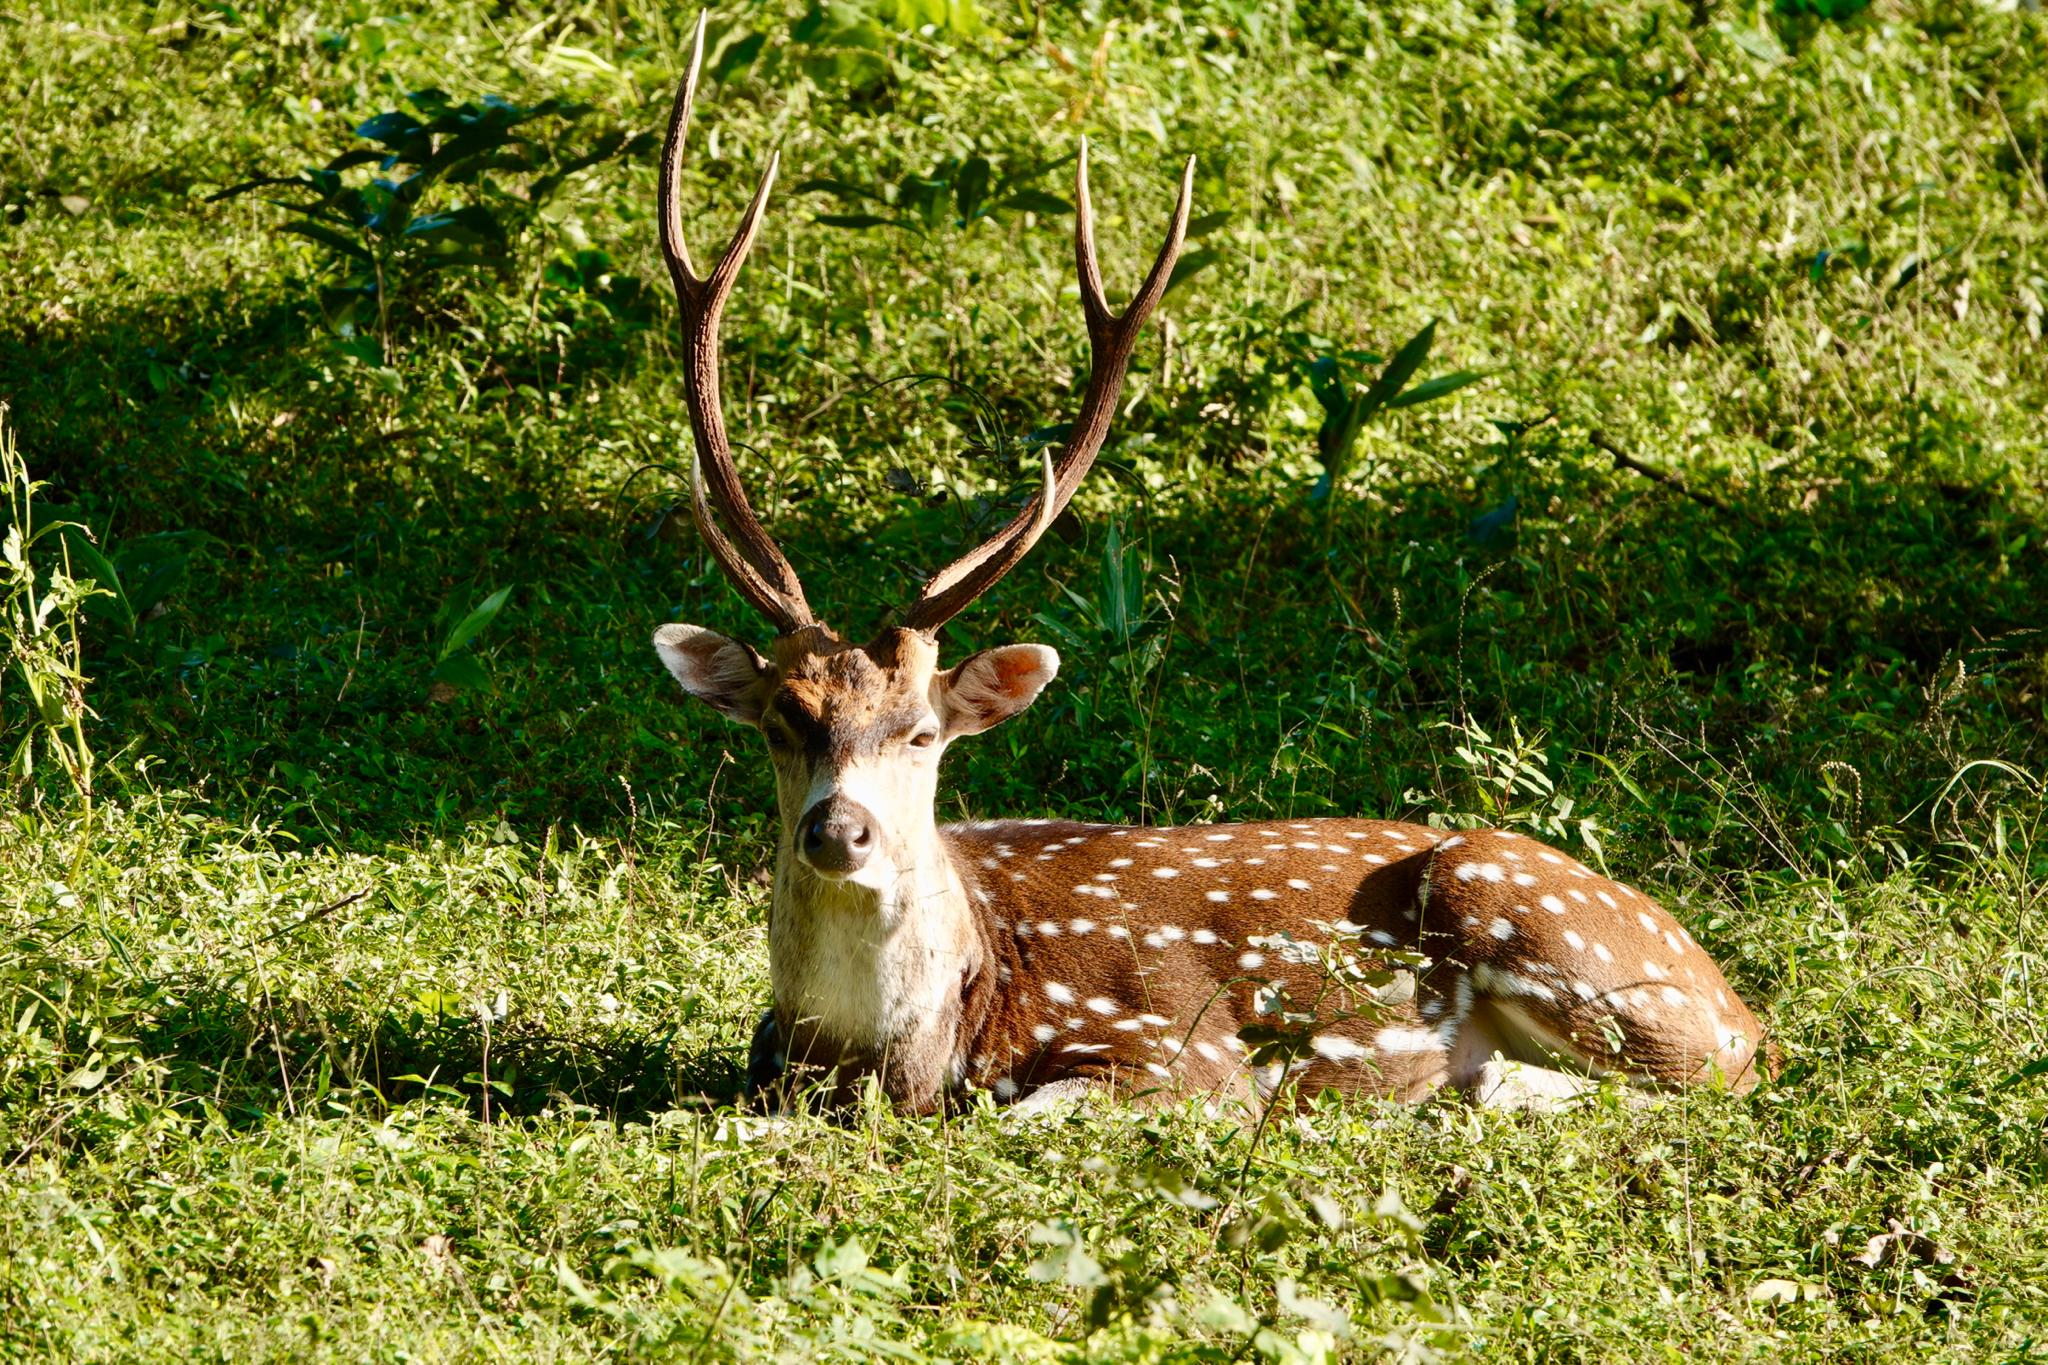Deer: (653, 34, 1760, 1112)
